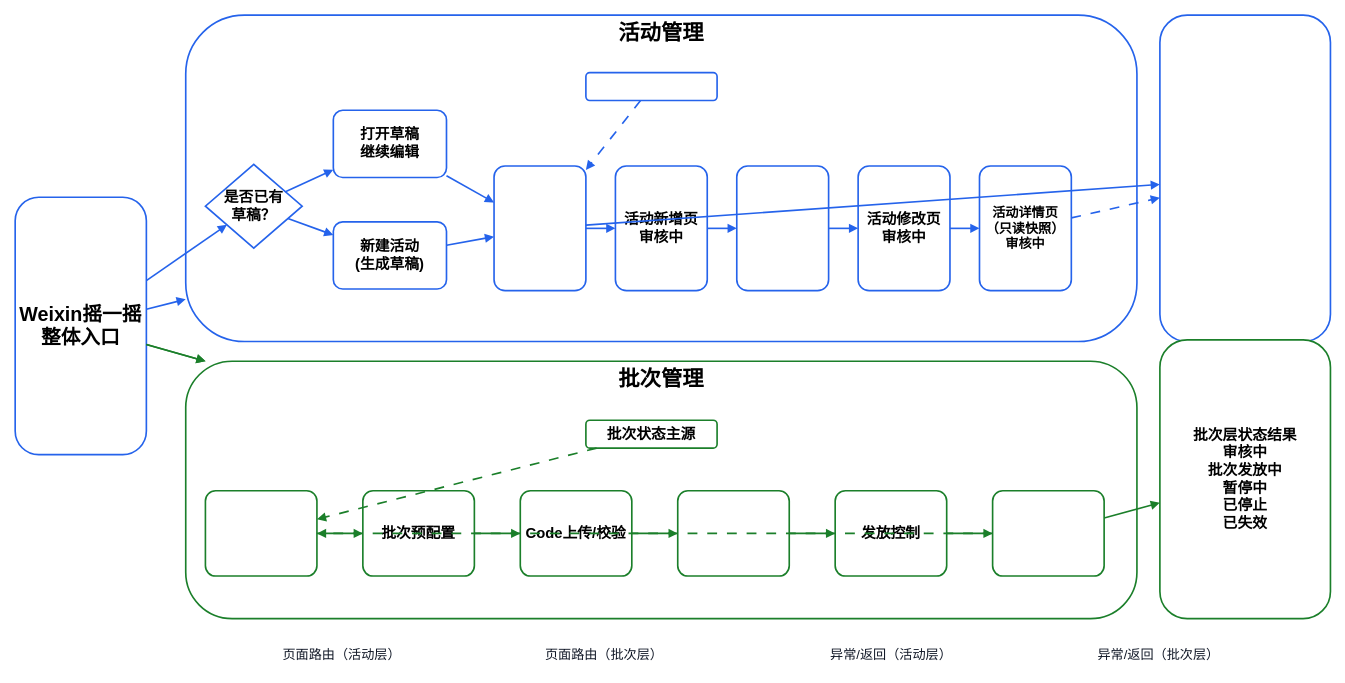
This 1345x683 diagram has some shape labels left out. Each missing label, with the centre of its shape:
批次列表页: pixel 260 533
批次状态管理: pixel 1048 533
活动列表页 审核中: pixel 539 228
活动层状态结果 草稿 审核中 生效中 已失效: pixel 1245 178
活动状态主源: pixel 651 86
活动编辑页 审核中: pixel 782 228
门店关联: pixel 733 533
